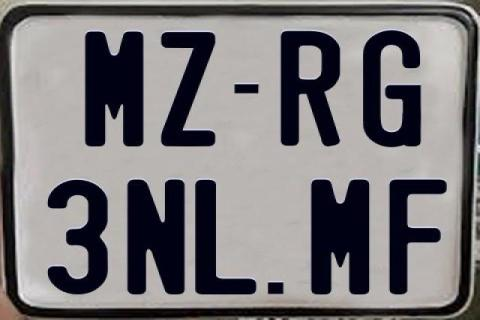0: (47, 178, 108, 298)
F: (390, 177, 452, 296)
G: (360, 30, 424, 152)
L: (194, 178, 258, 296)
M: (310, 178, 370, 296), (83, 29, 144, 144)
N: (124, 177, 188, 297)
R: (280, 29, 340, 150)
Z: (160, 31, 218, 146)
